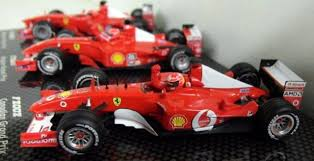FormulaOneCar: (15, 59, 306, 159)
